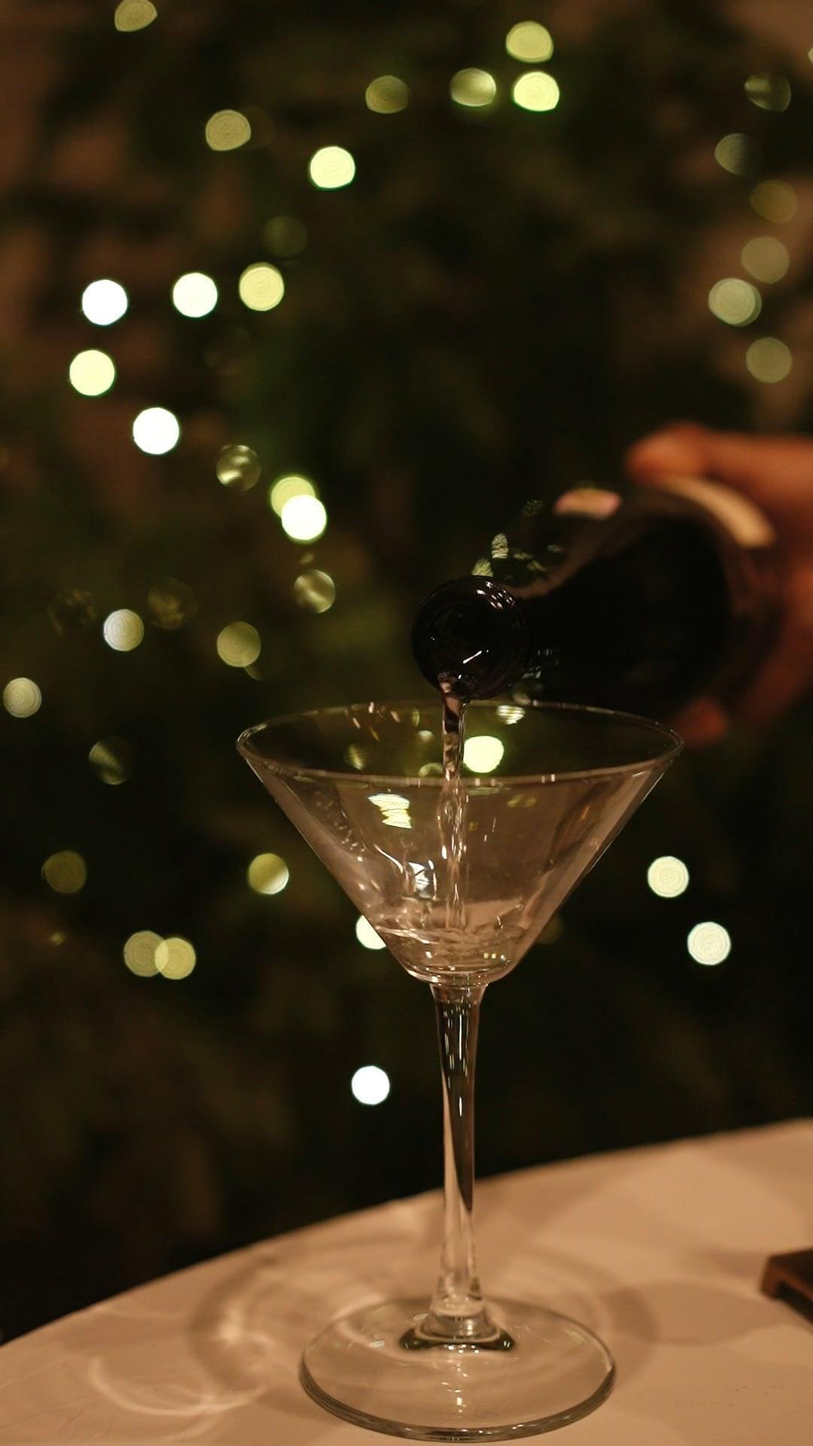glass-wine: (232, 689, 687, 1437)
